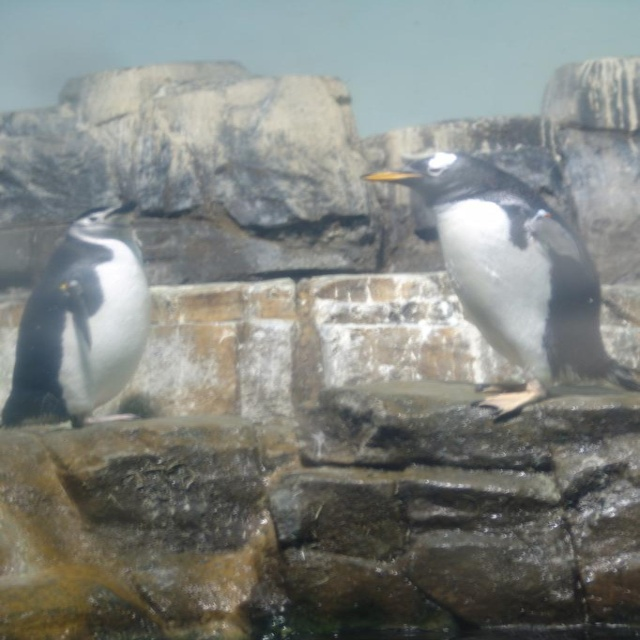Penguin: (358, 152, 639, 422), (0, 200, 154, 431)
